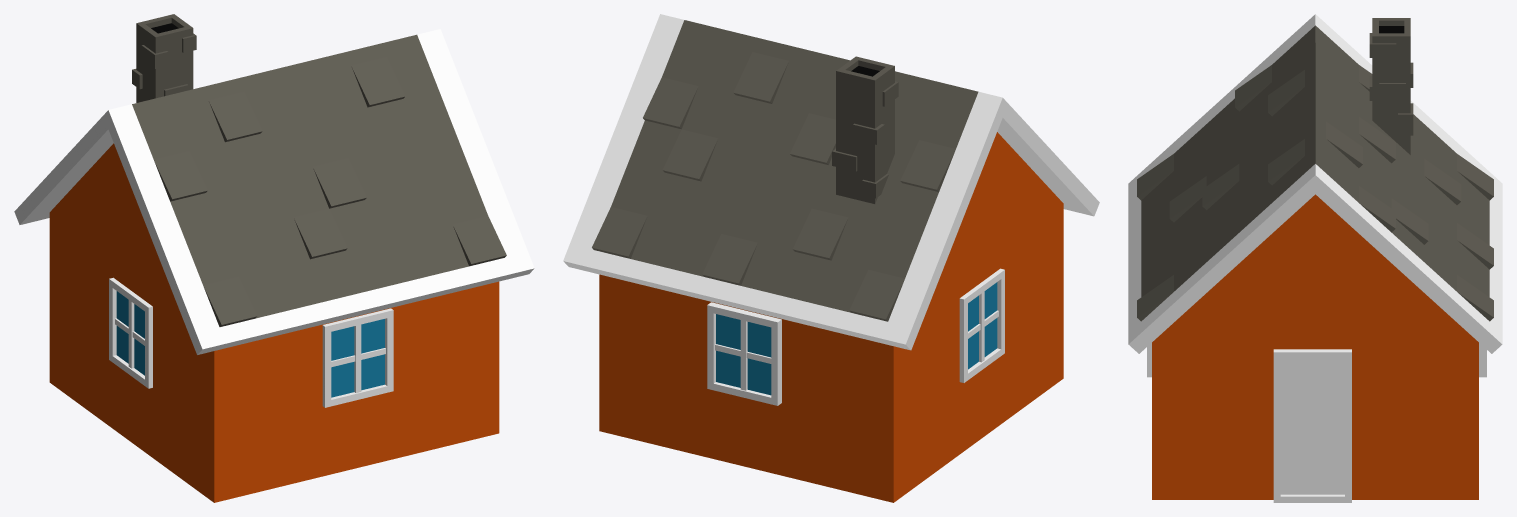
File: CityHouse_03.fbx
3 renders of one model, left to right at view 1: azimuth 30°, elevation 25°; view 2: azimuth 150°, elevation 25°; view 3: azimuth 270°, elevation 25°, orthographic. The views are drawn at different scales.
Visible parts, largest first — view 1: CityHouse_03; view 2: CityHouse_03; view 3: CityHouse_03.
Boxes of the visible parts, x1,y1,x2,y2 form: CityHouse_03: (14, 14, 534, 502); CityHouse_03: (563, 14, 1099, 502); CityHouse_03: (1128, 14, 1502, 502).
Bounding box in the file's own units: 0.6333 × 0.6771 × 0.6216.
